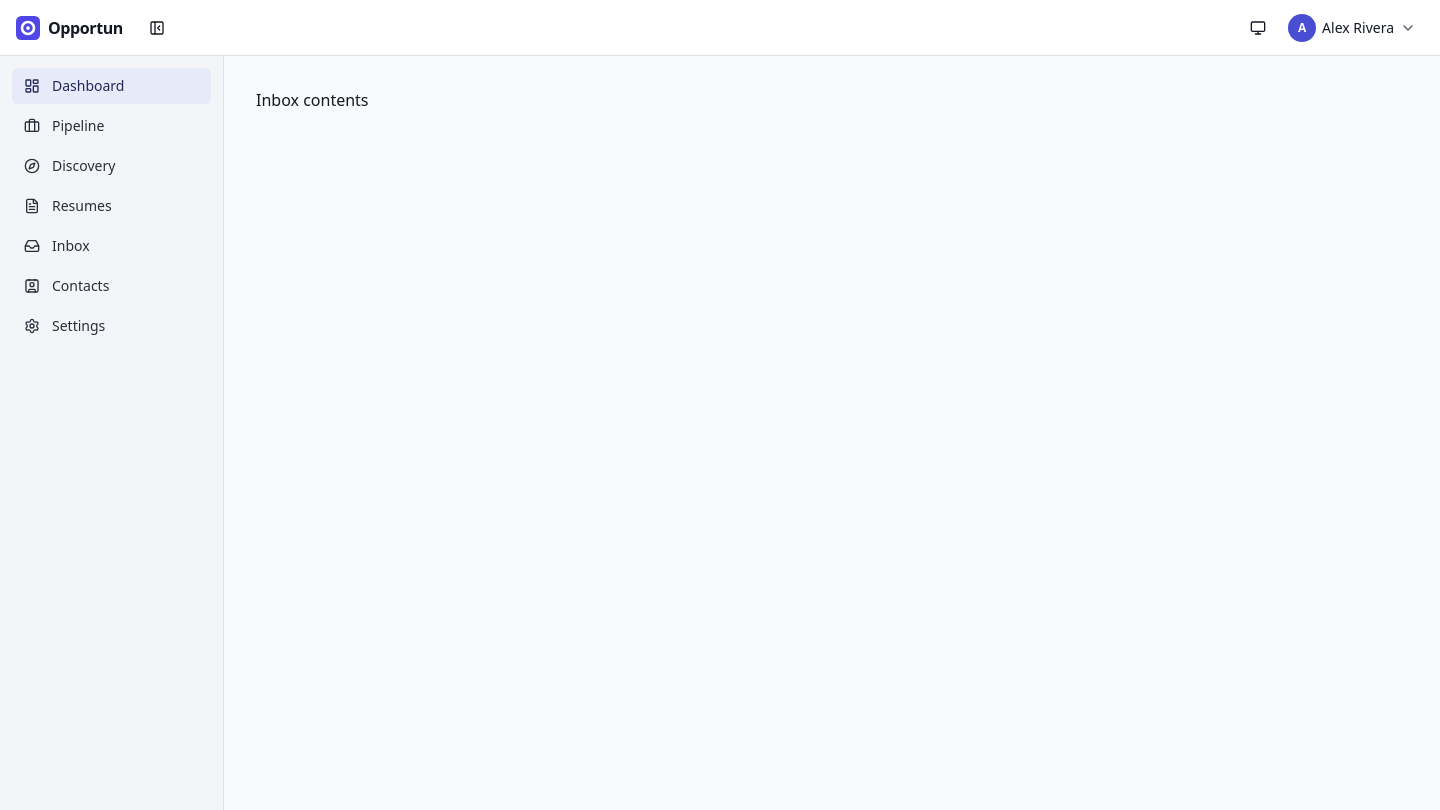
Test: AppShell sidebar collapse › #138: a collapsed destination shows a tooltip on hover, since its label is sr-only there
Expected: the navigation bar named "Main" is shown, [0,56,224,809]
Click the button named "sidebar" at (157, 28), box [139,10,175,46]
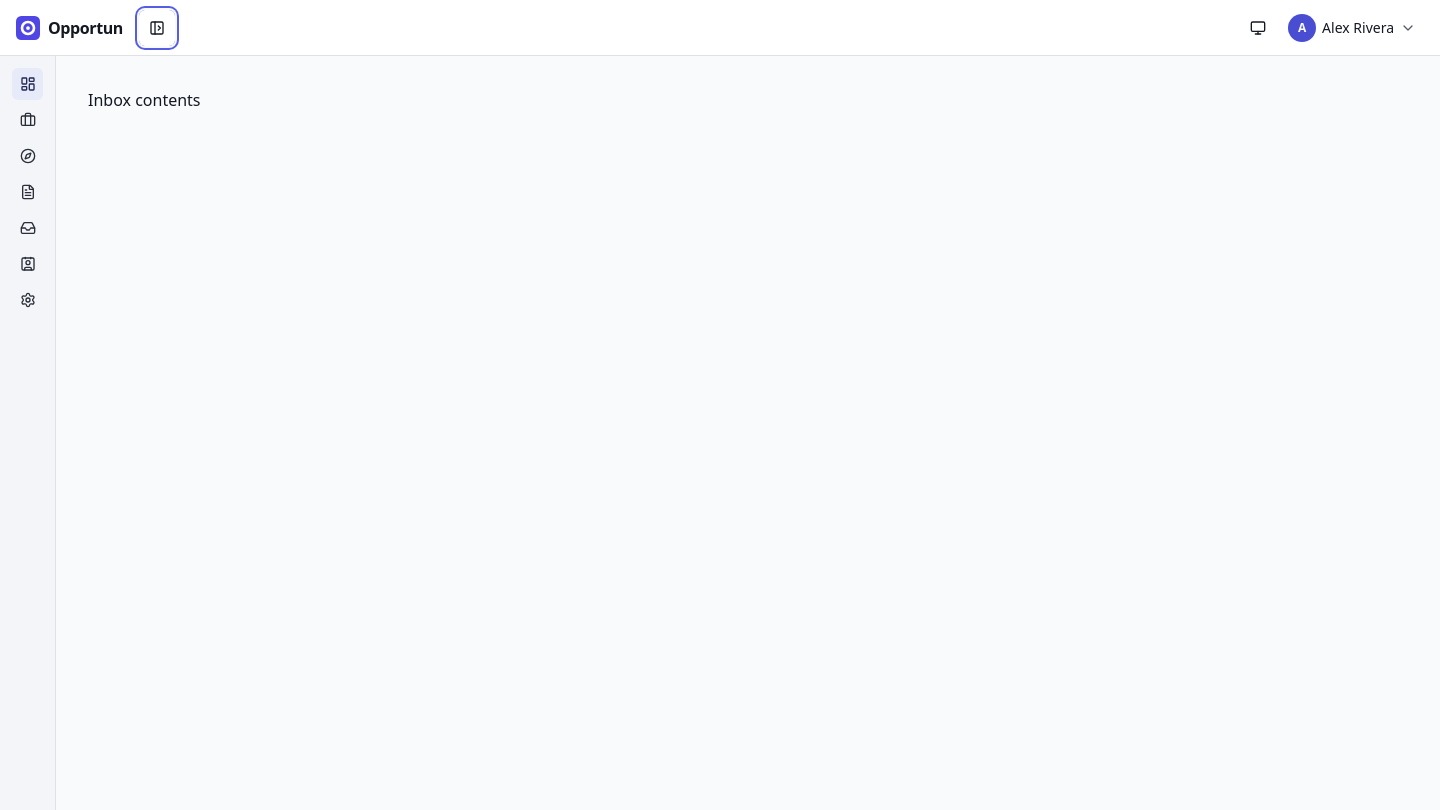
Hover over the 5th link named "Inbox" at (28, 228), box [12,212,43,244]
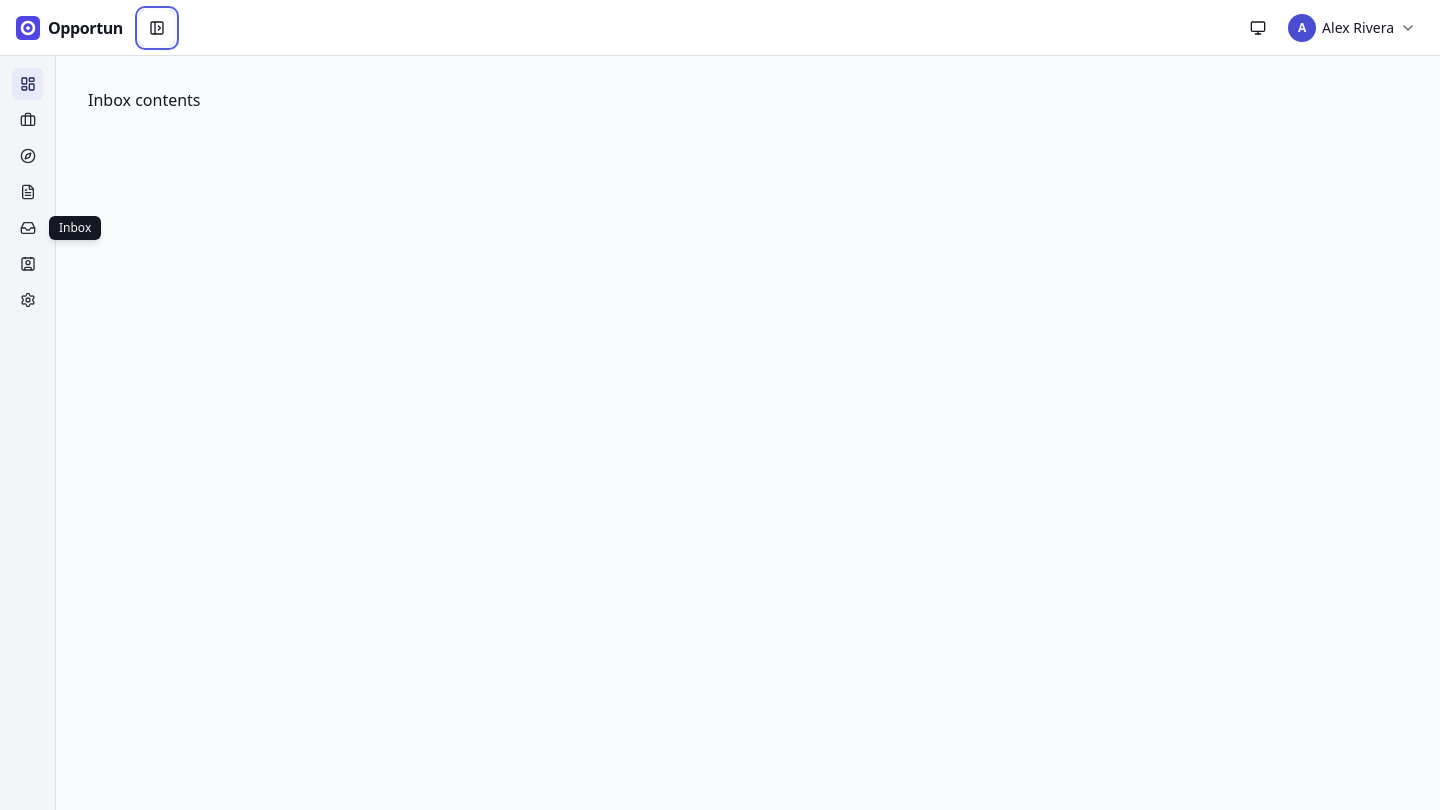
Result: the tooltip "Inbox" is shown at [49,216,101,240]
